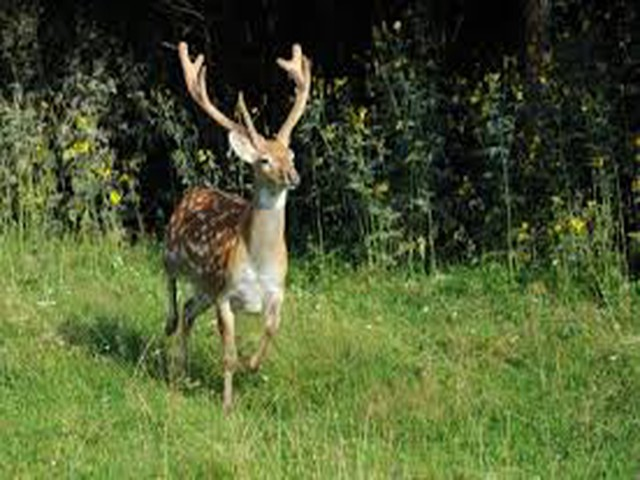deer: (159, 31, 318, 407)
